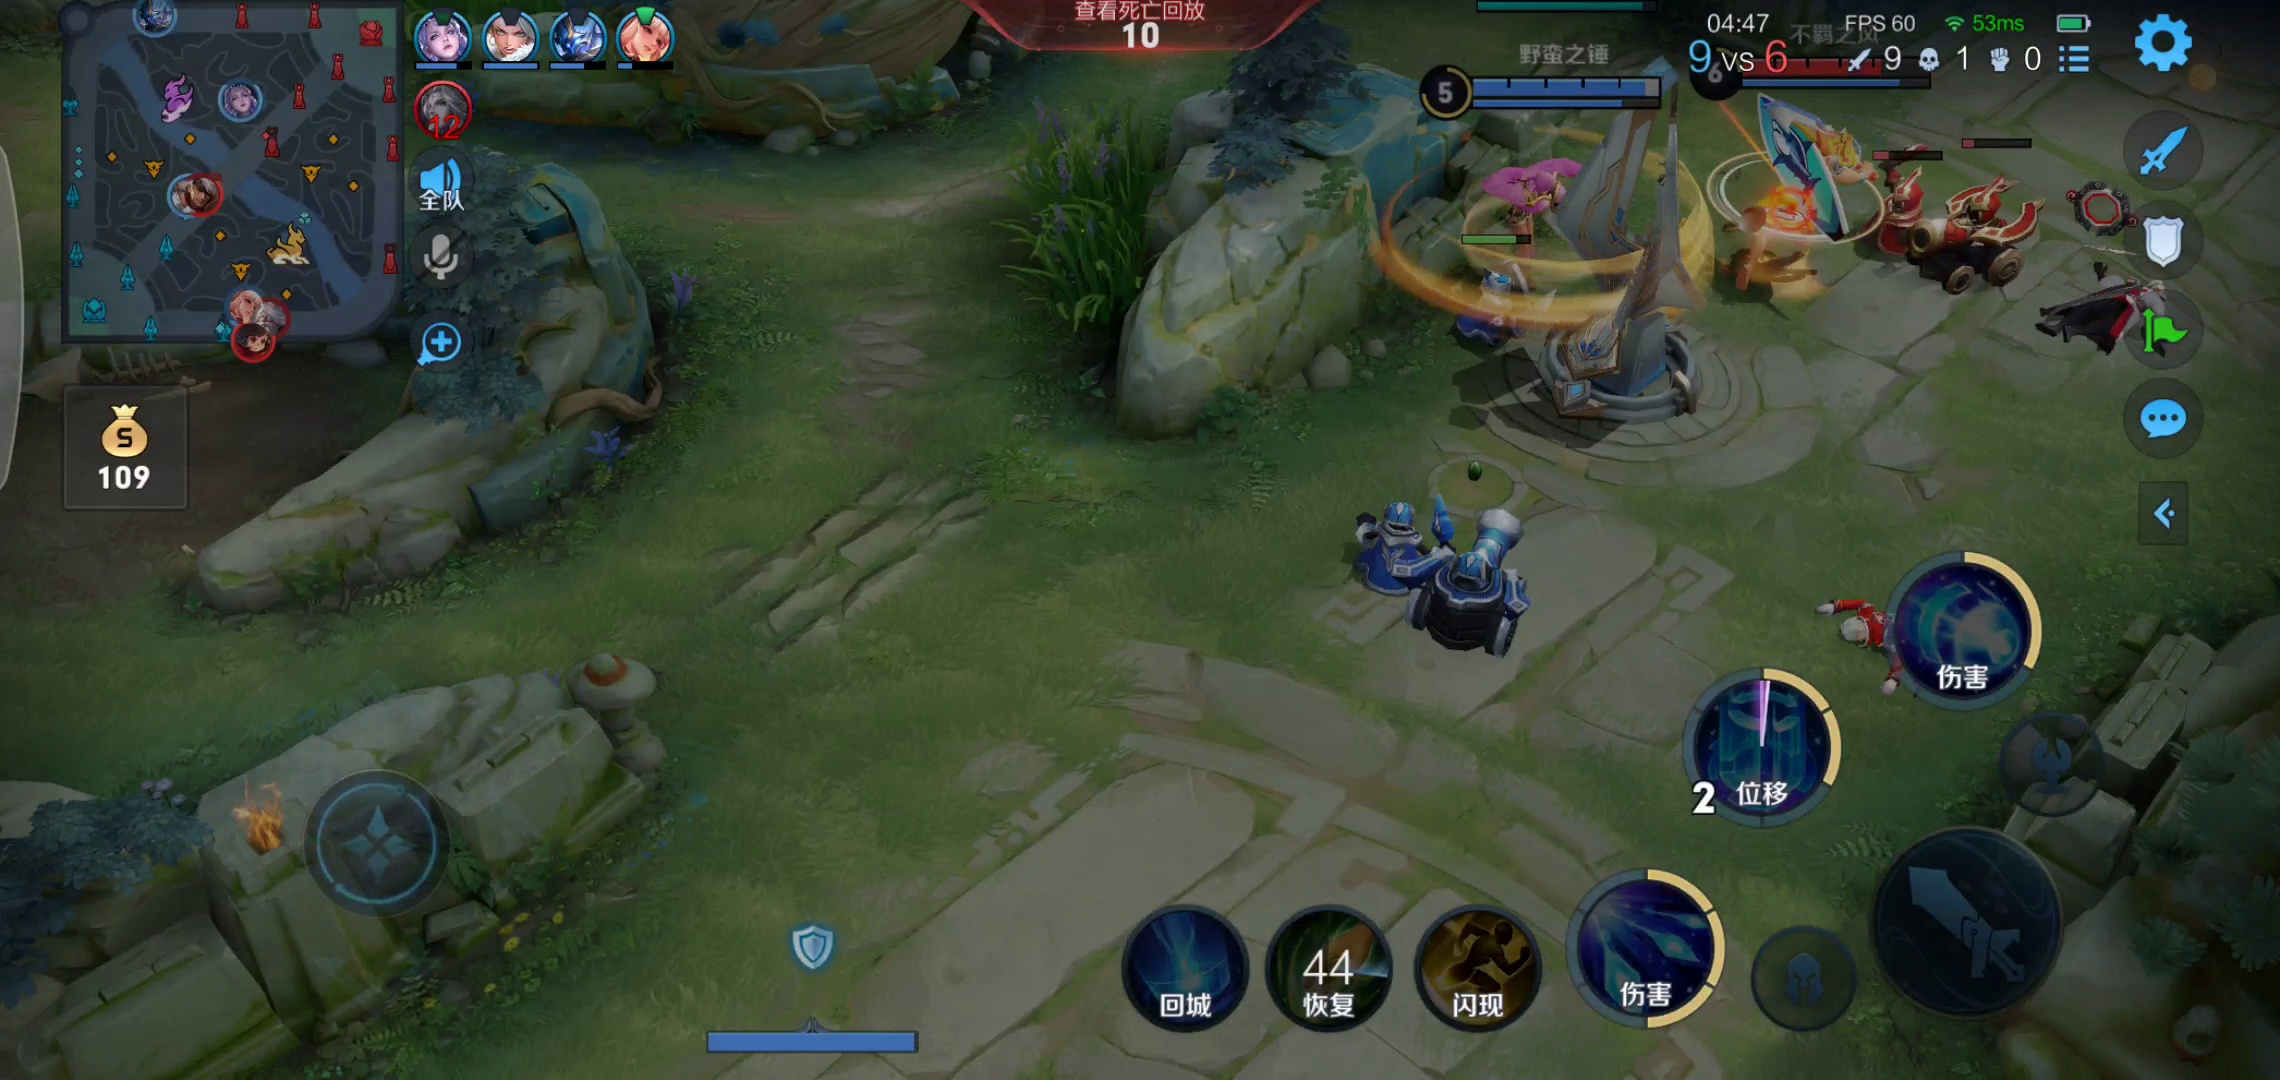grass: (1003, 118, 1157, 342)
hero: (1736, 137, 1857, 299)
soldier: (1431, 507, 1536, 669), (1925, 193, 2042, 295), (1330, 485, 1440, 589), (1850, 147, 1925, 251)
tower: (1541, 118, 1741, 439)
